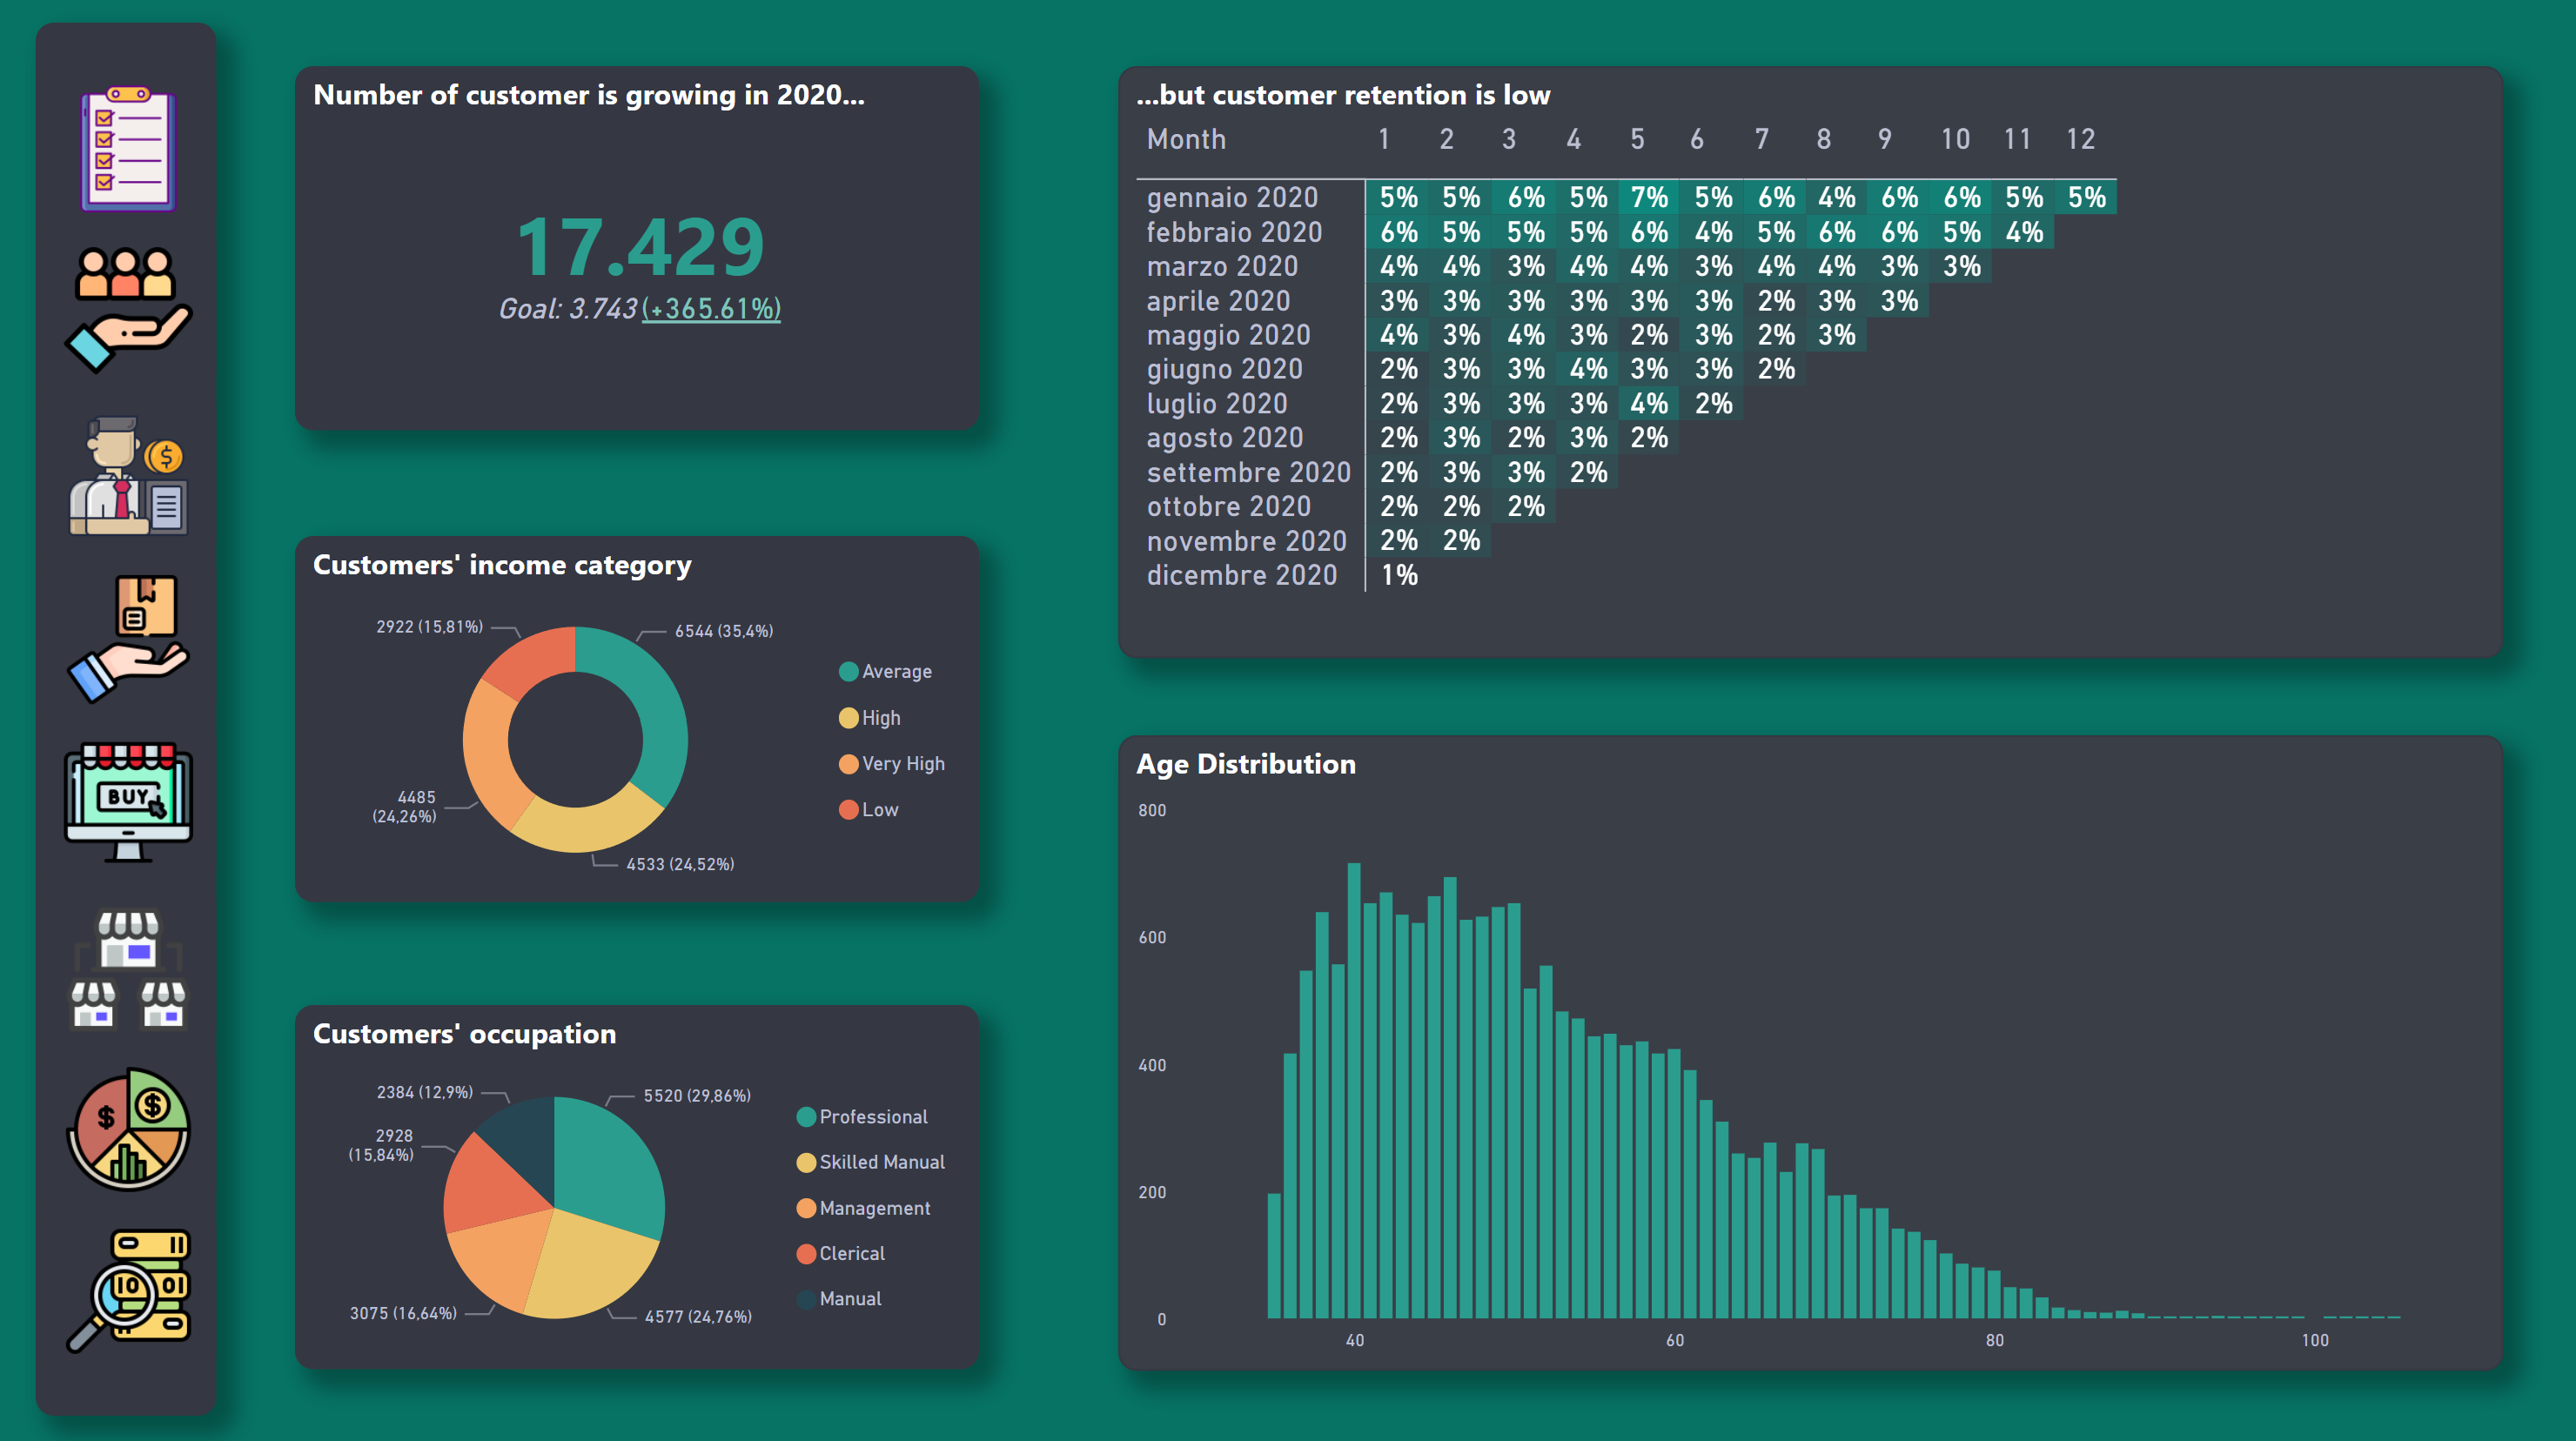

The dashboard page shown, as its layout file describes it:
{"tool":"powerbi","page":{"name":"Customer","canvas":[1280,720],"ordinal":1},"visuals":[{"type":"card","title":"Total Customers","fields":{"Values":["Count(DimCustomer.CustomerKey)"]},"box":[125.9,57.6,237.9,179.2],"z":0},{"type":"donutChart","title":"Customers'' income category","fields":{"Category":["DimCustomer.IncomeCat"],"Y":["CountNonNull(DimCustomer.CustomerKey)"]},"box":[422.4,57.6,344.5,179.2],"z":1000},{"type":"pieChart","title":"Customers'' occupation","fields":{"Category":["DimCustomer.Occupation"],"Y":["Count(DimCustomer.CustomerKey)"]},"box":[818.1,57.6,394.7,179.2],"z":2000},{"type":"areaChart","title":"Age Distribution","fields":{"Category":["DimCustomer.Age"],"Y":["Count(DimCustomer.CustomerKey)"]},"box":[125.9,299.7,1086.9,373.3],"z":3000},{"type":"shape","box":[19.2,14.9,89.6,690.1],"z":4000},{"type":"actionButton","title":"Employee","box":[30.9,67.2,65.1,69.3],"z":5000},{"type":"actionButton","box":[30.9,152.5,65.1,75.7],"z":6000},{"type":"actionButton","box":[30.9,253.9,65.1,75.7],"z":7000},{"type":"actionButton","box":[25.6,343.5,76.8,77.9],"z":8000},{"type":"actionButton","box":[25.6,452.3,76.8,72.5],"z":9000},{"type":"actionButton","box":[30.9,552.5,66.1,71.5],"z":10000}]}

Visuals, with their boxes in screenshot pixels (x1, y1, x2, y2), scaled from the page's 1280x720 canvas onto the 2576x1441 screenshot:
"Total Customers" card: [x1=253, y1=115, x2=732, y2=474]
"Customers'' income category" donutChart: [x1=850, y1=115, x2=1543, y2=474]
"Customers'' occupation" pieChart: [x1=1647, y1=115, x2=2441, y2=474]
"Age Distribution" areaChart: [x1=253, y1=600, x2=2441, y2=1347]
shape: [x1=38, y1=30, x2=219, y2=1411]
"Employee" actionButton: [x1=62, y1=135, x2=193, y2=273]
actionButton: [x1=62, y1=305, x2=193, y2=457]
actionButton: [x1=62, y1=508, x2=193, y2=660]
actionButton: [x1=51, y1=687, x2=206, y2=843]
actionButton: [x1=51, y1=905, x2=206, y2=1050]
actionButton: [x1=62, y1=1106, x2=195, y2=1249]
